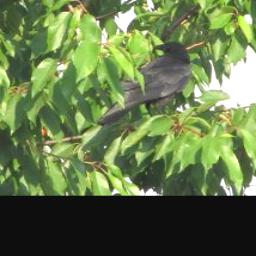Crow: (96, 41, 194, 126)
